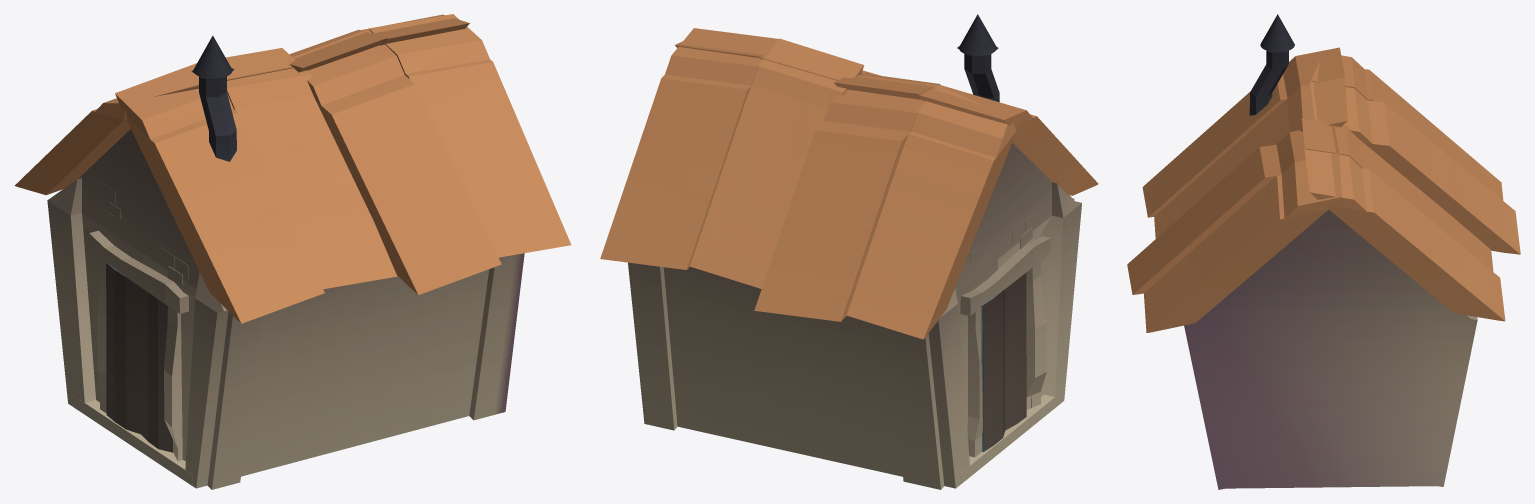
File: housefinal4.fbx
3 views of the same model, side by side, from view 1: azimuth 30°, elevation 25°; view 2: azimuth 150°, elevation 25°; view 3: azimuth 270°, elevation 25° (orthographic). The views are drawn at different scales.
Parts seen in each view (by area): view 1: Cube.010; view 2: Cube.010; view 3: Cube.010.
Part boxes in pixels (x1,y1,x2,y2): Cube.010: (14, 14, 571, 489); Cube.010: (600, 14, 1098, 489); Cube.010: (1127, 14, 1520, 489).
Bounding box in the file's own units: 416 × 466 × 454.
1 material, 1 textured.
